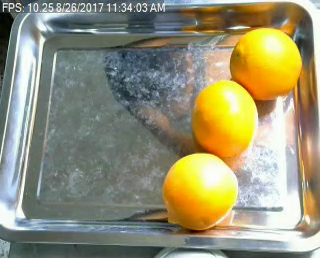Orange: (163, 152, 239, 230), (230, 26, 301, 99), (190, 78, 257, 155)
